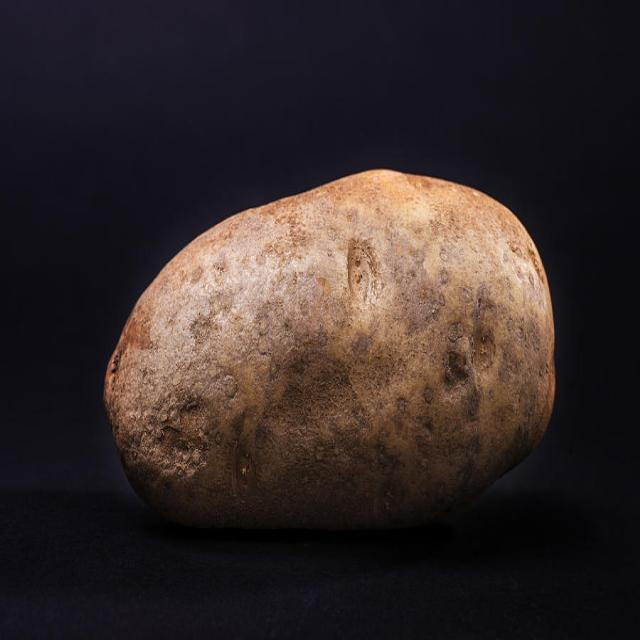potato: (103, 170, 556, 530)
